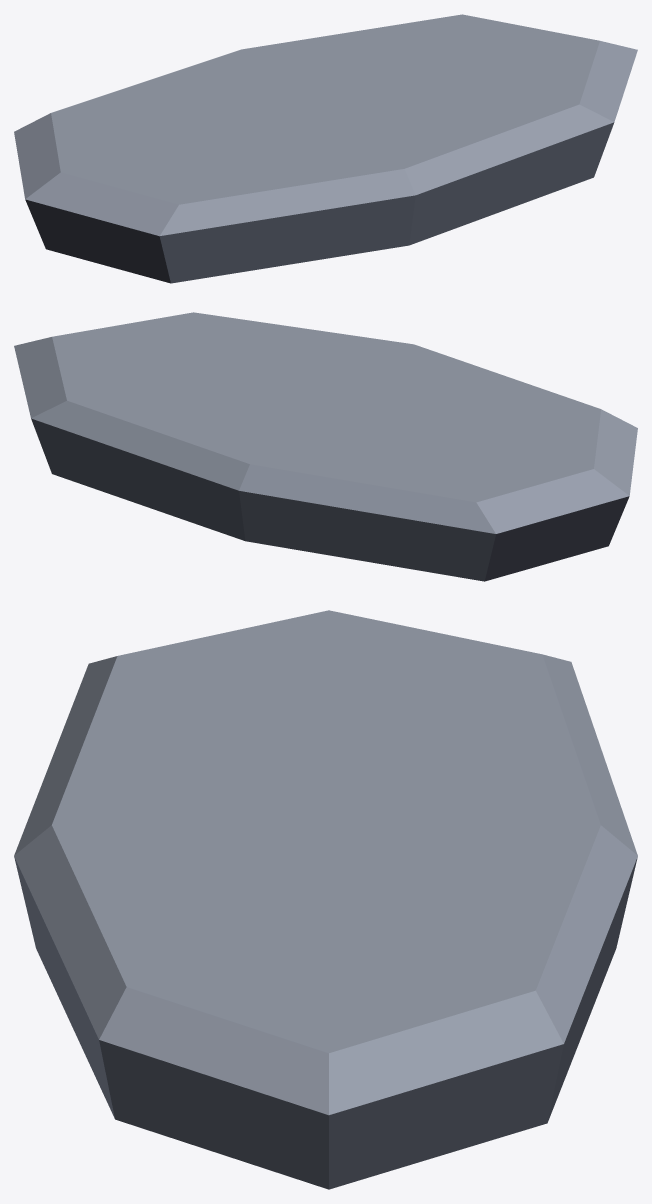
The model's file is TW_PAVER_LONG_A_LOD0.glb.
3 renders of one model, top to bottom at view 1: azimuth 30°, elevation 25°; view 2: azimuth 150°, elevation 25°; view 3: azimuth 270°, elevation 25°, orthographic. The views are drawn at different scales.
Visible parts, largest first — view 1: TW_PAVER_LONG_A_LOD0; view 2: TW_PAVER_LONG_A_LOD0; view 3: TW_PAVER_LONG_A_LOD0.
Boxes of the visible parts, box(x1,y1,x2,y2) form: TW_PAVER_LONG_A_LOD0: box(14, 14, 637, 283); TW_PAVER_LONG_A_LOD0: box(14, 312, 637, 581); TW_PAVER_LONG_A_LOD0: box(14, 610, 637, 1189).
Bounding box in the file's own units: 1.05 × 0.12 × 0.55.
1 material, 1 textured.
